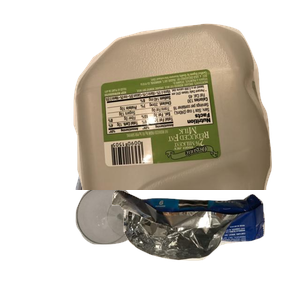glass: (73, 184, 214, 300)
metal: (73, 52, 263, 232)
plastic: (71, 21, 300, 201)
trash: (109, 187, 300, 300)
